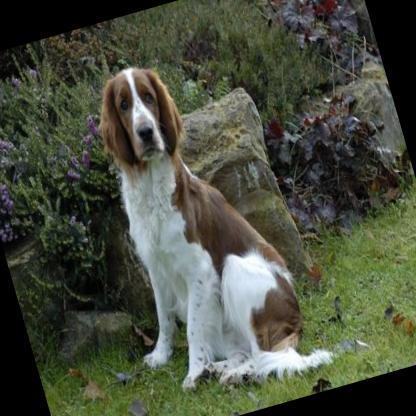Welsh_springer_spaniel: (64, 34, 335, 416)
